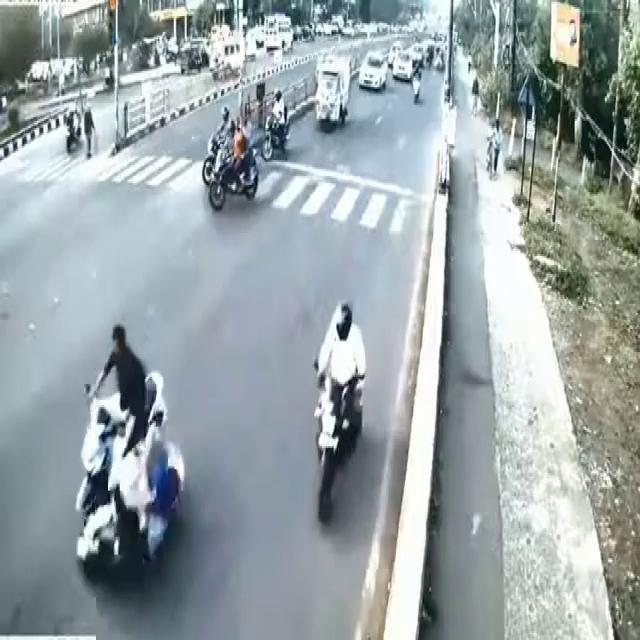accident: (56, 288, 188, 612)
